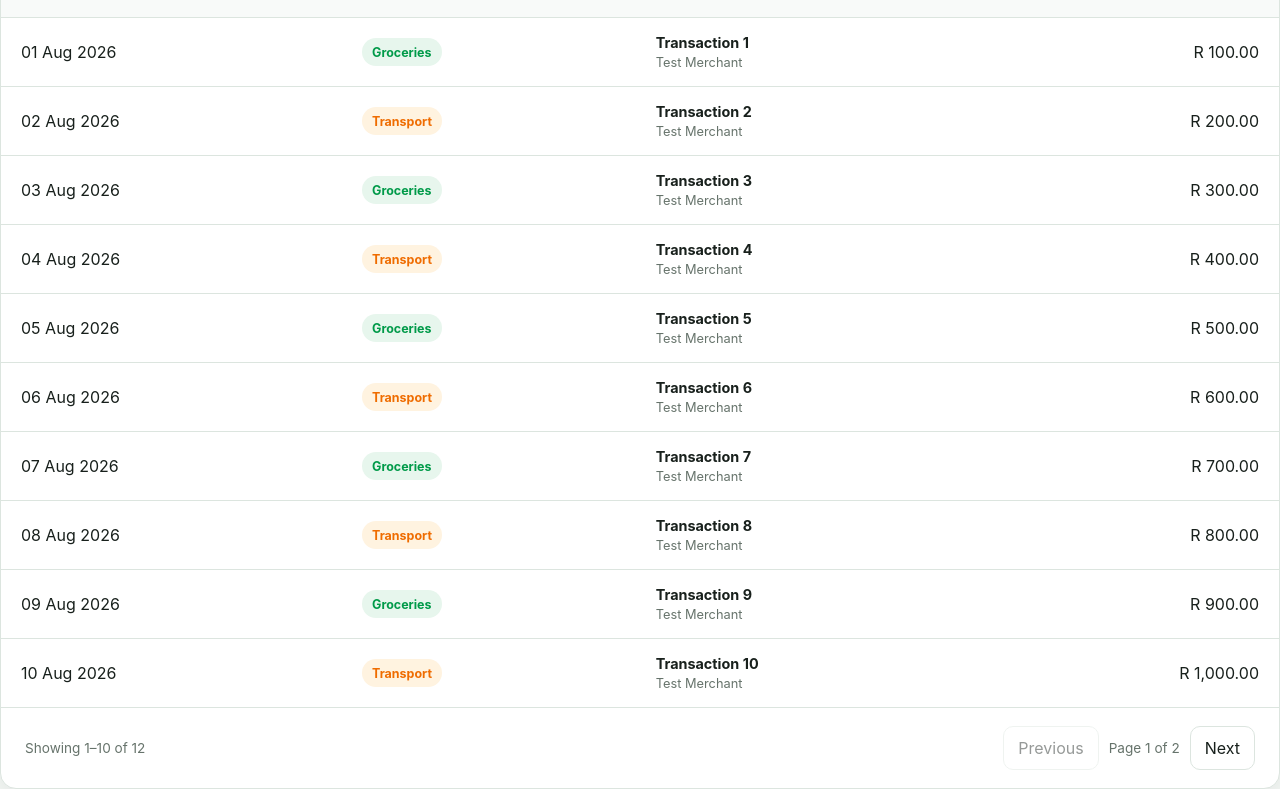
it: TransactionsTable › moves to the next page
(page scrolled)
Click the button "Next" at (1222, 748), box [1190, 726, 1255, 770]
(page scrolled)
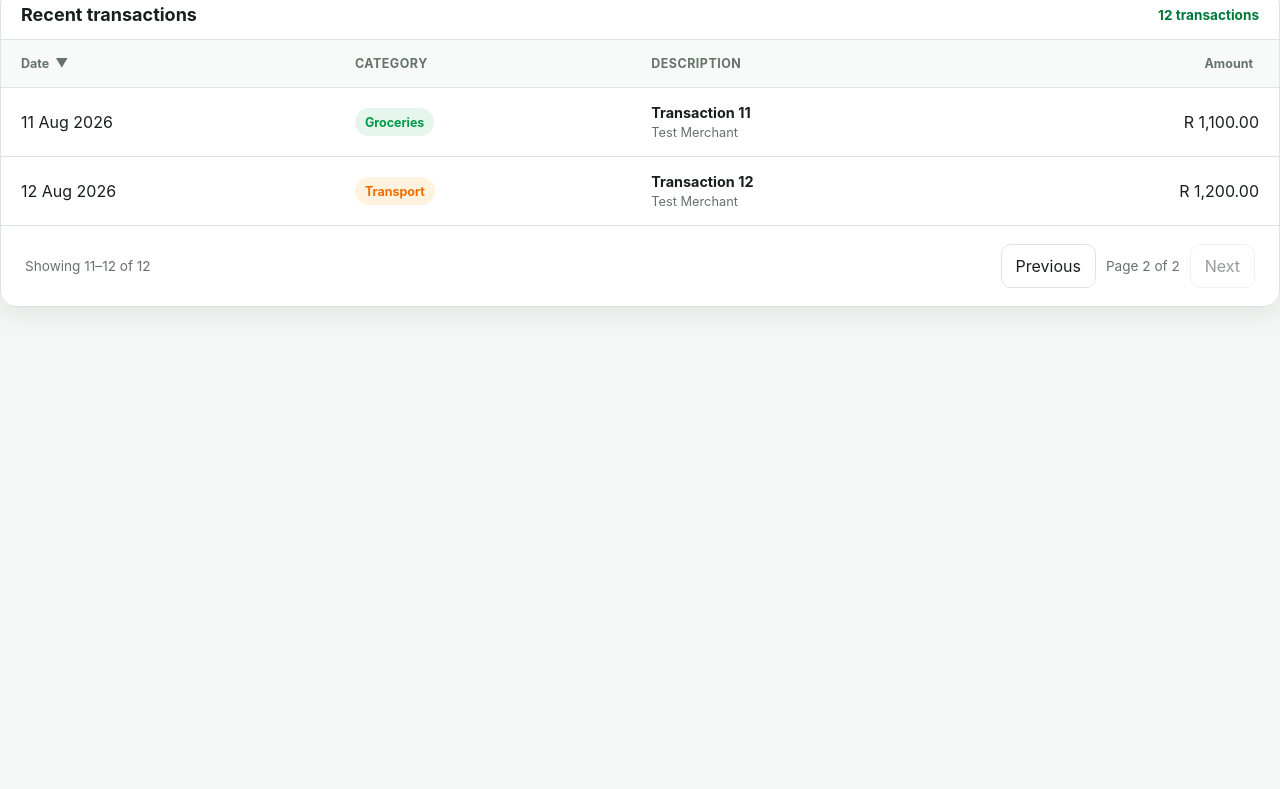
expect the text "Transaction 11" is shown: met, box [651, 104, 751, 121]
expect the text "Transaction 12" is shown: met, box [651, 173, 754, 190]
expect the text "Showing 11–12 of 12" is shown: met, box [25, 258, 151, 274]
